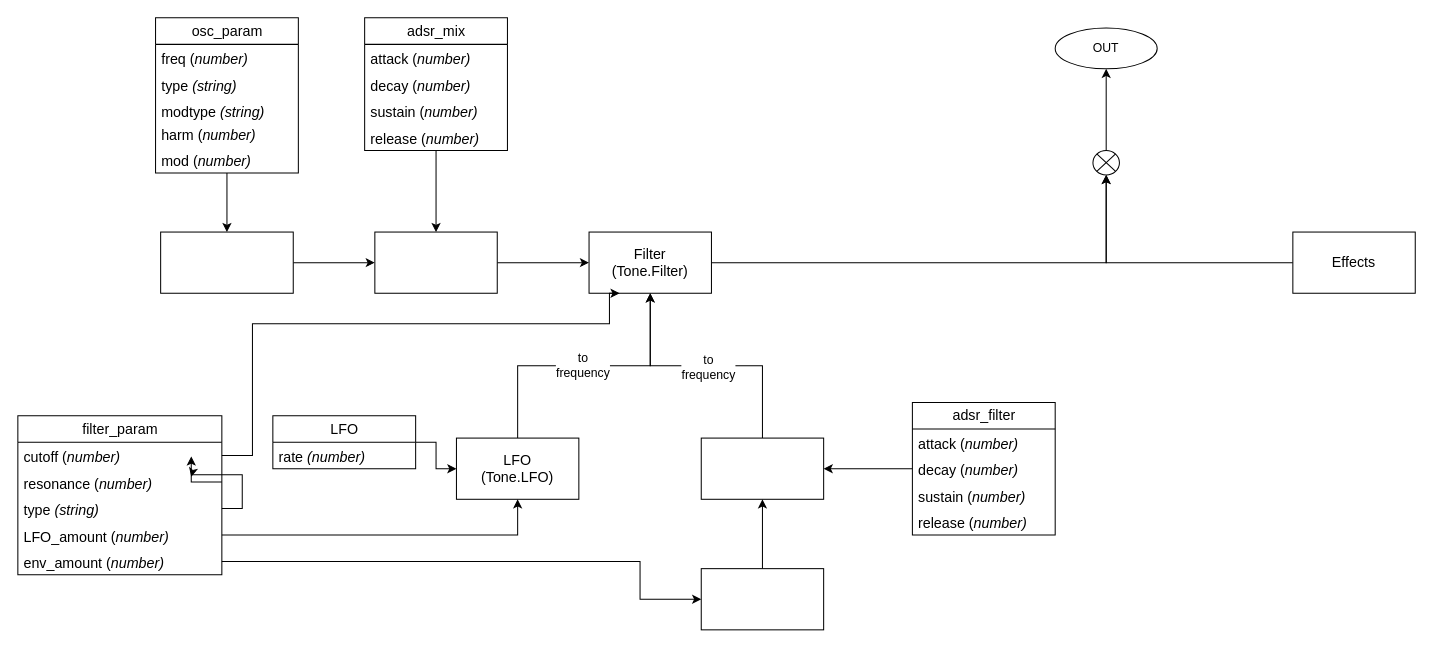
This 1433x648 diagram has some shape labels left out. Here are the shapes that lost their labels. From the top down, the centre of each, then its label:
At (x=226, y=262): "FMOsc (Tone.FMOscillator)".
At (x=435, y=262): "AmpEnv (Tone.Envelope)".
At (x=762, y=468): "FilterEnv (Tone.Envelope)".
At (x=762, y=599): "EnvFilterAmount (Tone.Gain)".
